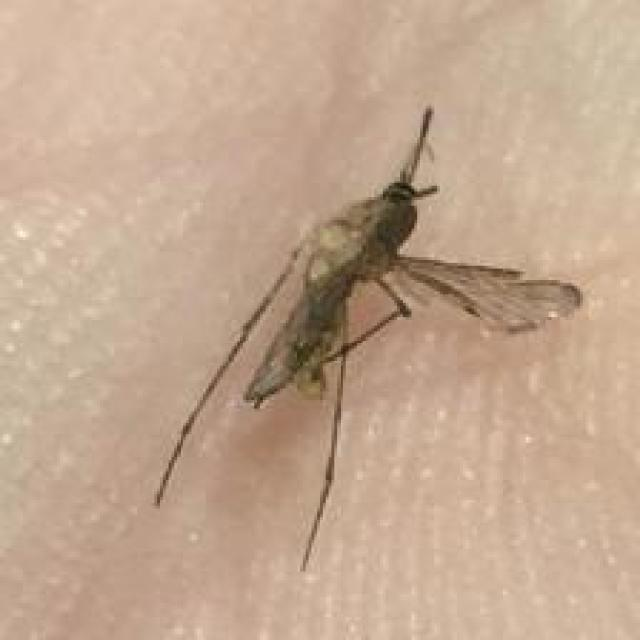Culex: (151, 103, 583, 571)
